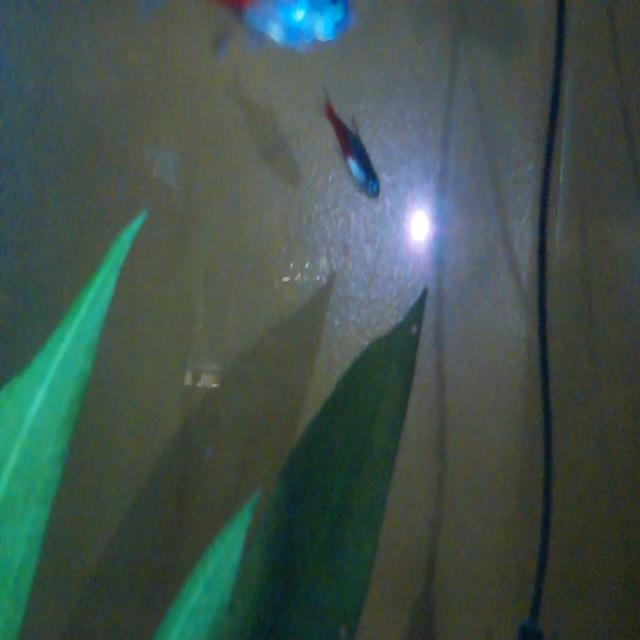fish: (308, 86, 386, 206)
